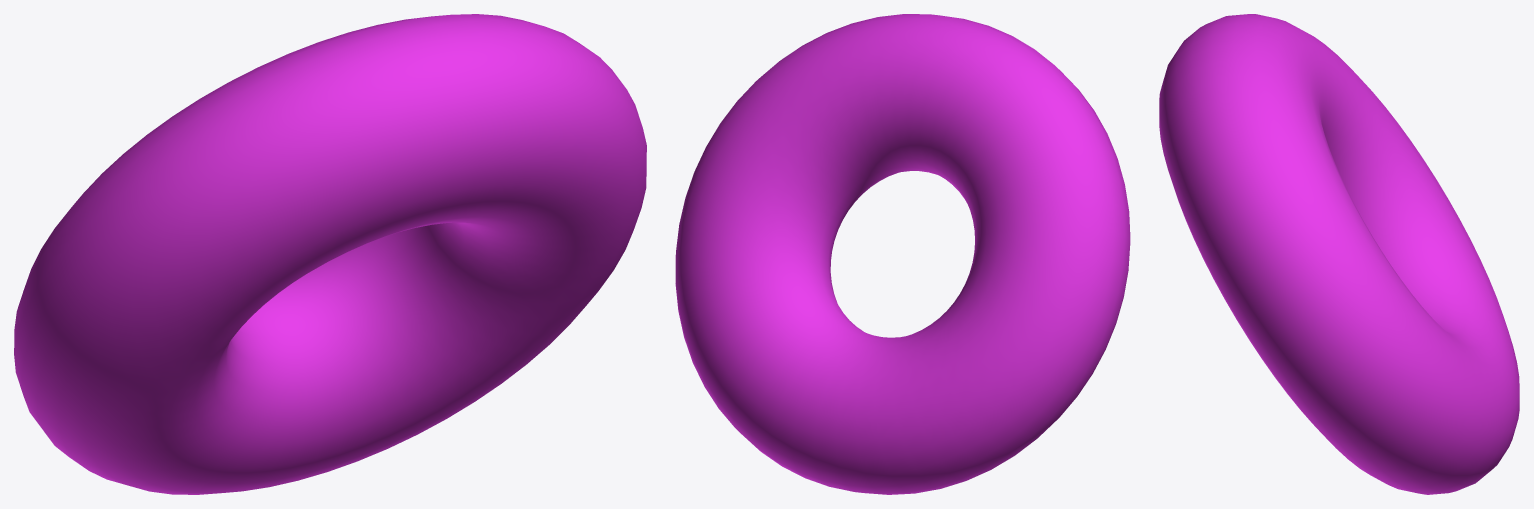
File: toruss.glb
3 views of the same model, side by side, from view 1: azimuth 30°, elevation 25°; view 2: azimuth 150°, elevation 25°; view 3: azimuth 270°, elevation 25° (orthographic). The views are drawn at different scales.
Parts seen in each view (by area): view 1: Torus.001; view 2: Torus.001; view 3: Torus.001.
Boxes of the visible parts, left/top/right/bottom form: Torus.001: left=14, top=14, right=646, bottom=494; Torus.001: left=675, top=14, right=1130, bottom=494; Torus.001: left=1159, top=14, right=1519, bottom=494.
Size of the model in its own units: 3.4 by 2.99 by 2.3.
